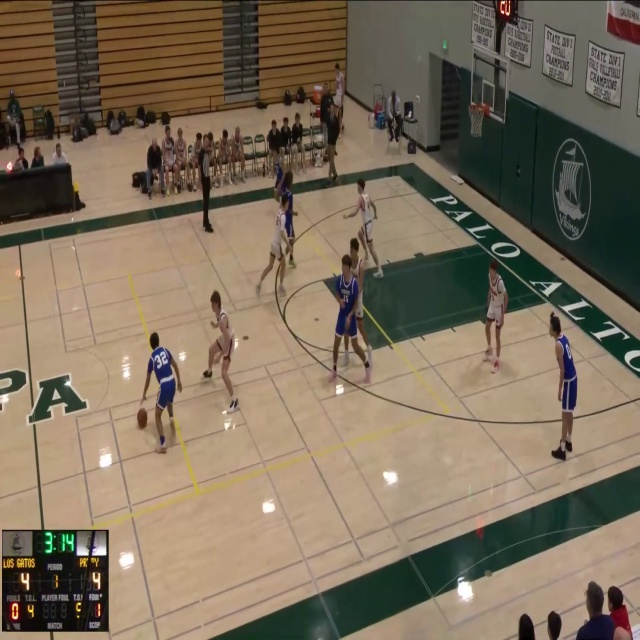Basketball: (137, 408, 147, 429)
